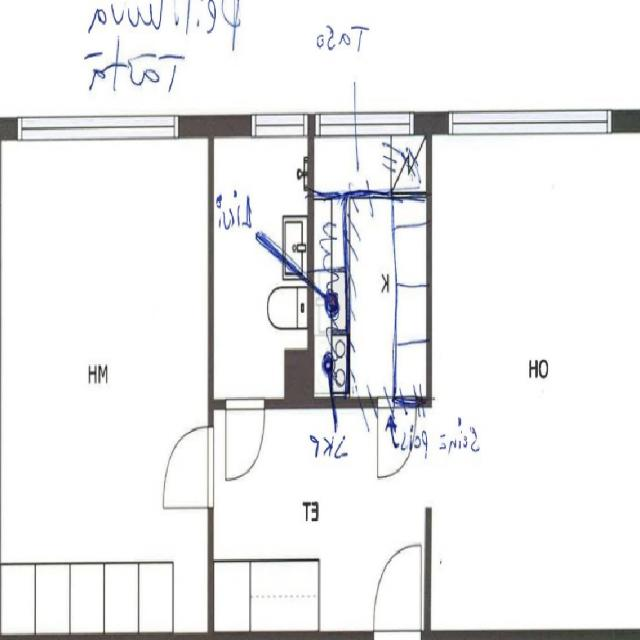door: (373, 546, 420, 640), (164, 428, 214, 508), (226, 398, 264, 478)
